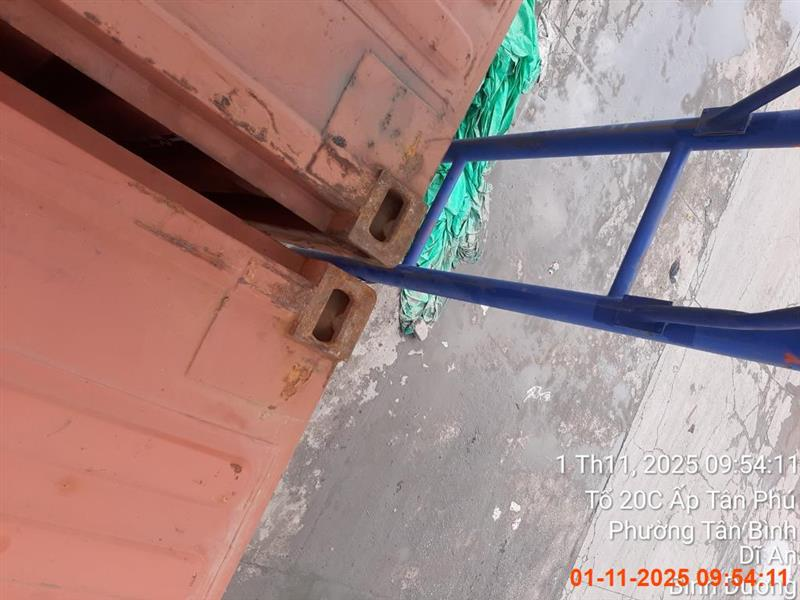broken: (3, 2, 797, 598)
